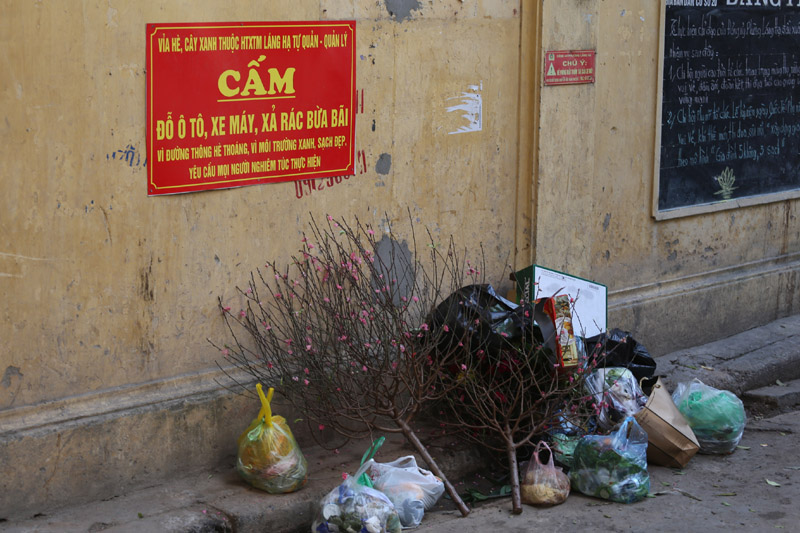plastic bag: (416, 284, 559, 429), (319, 455, 445, 532), (234, 382, 309, 494), (567, 422, 656, 501), (670, 379, 745, 455), (584, 327, 657, 389), (518, 441, 572, 509), (583, 368, 647, 420)
